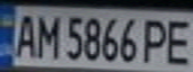5: (60, 12, 84, 61)
6: (118, 15, 142, 63), (100, 14, 121, 63)
8: (81, 14, 103, 62)
A: (9, 10, 39, 58)
E: (160, 15, 193, 66)
M: (33, 10, 60, 60)
P: (139, 15, 172, 64)
